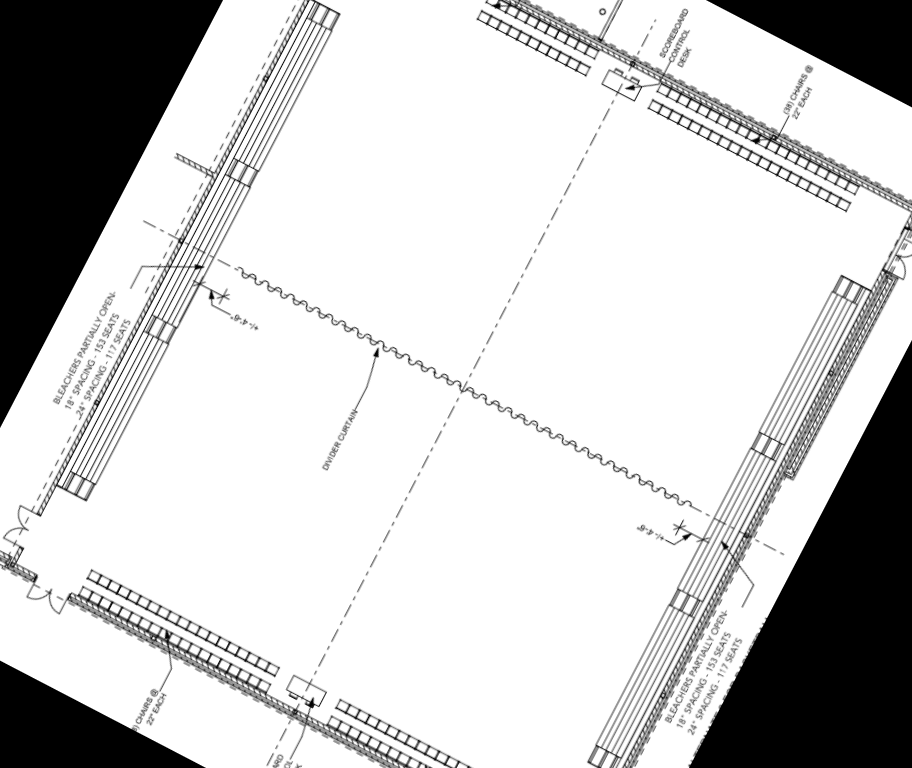double door: (20, 571, 75, 620), (0, 500, 44, 555), (879, 230, 912, 285)
